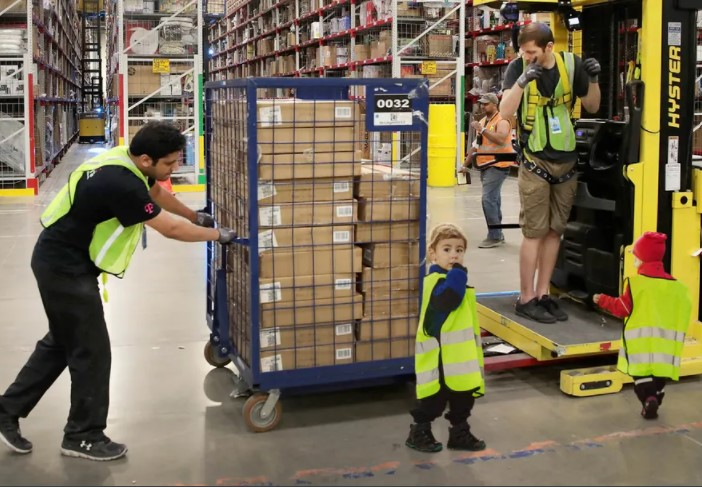worker: (39, 124, 184, 285), (413, 229, 485, 398), (616, 235, 692, 384)
